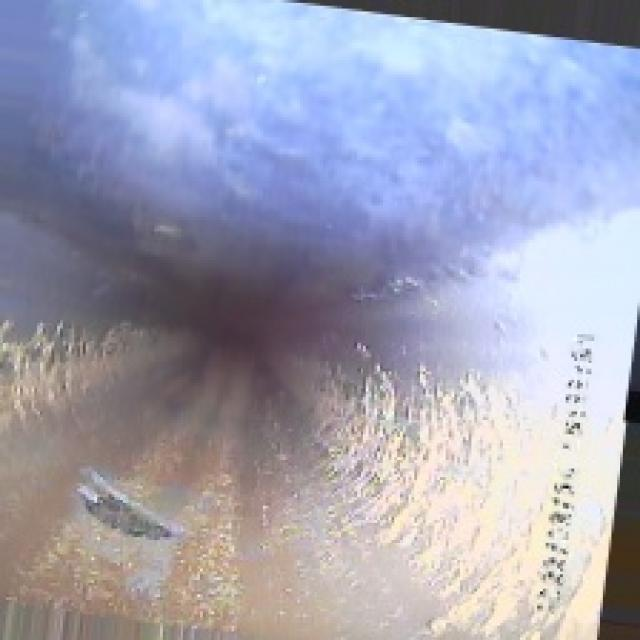pipe_surface_damage: (74, 463, 183, 546)
